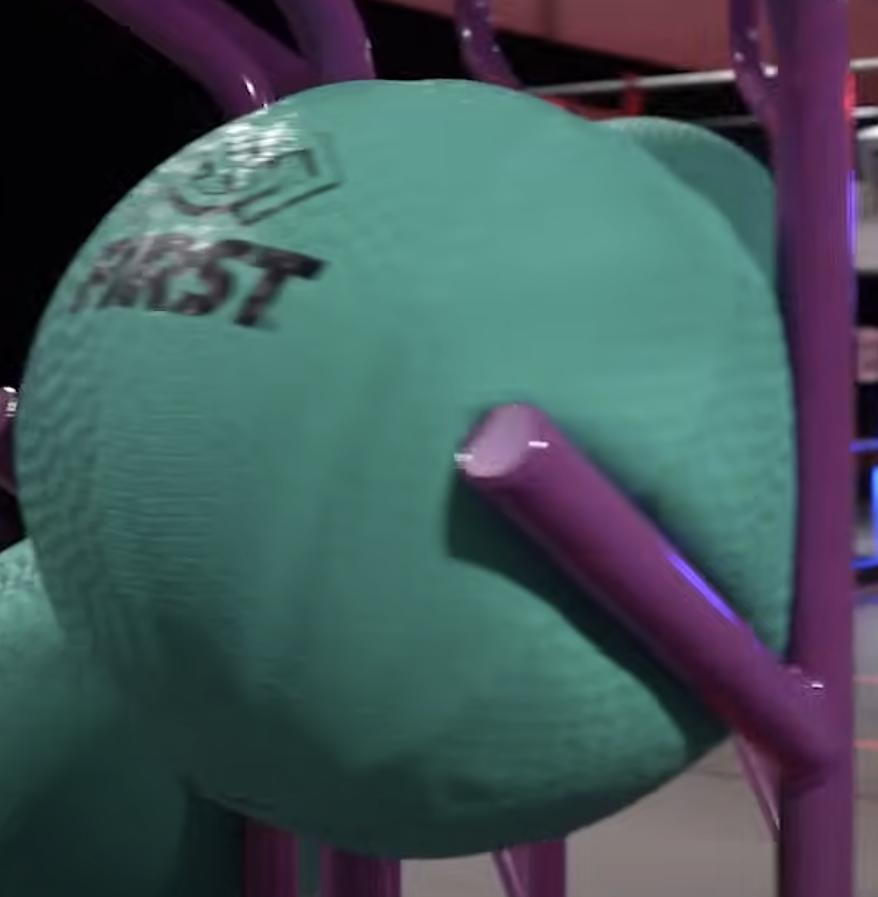algae: (18, 80, 801, 860), (0, 540, 325, 897), (594, 120, 771, 286)
